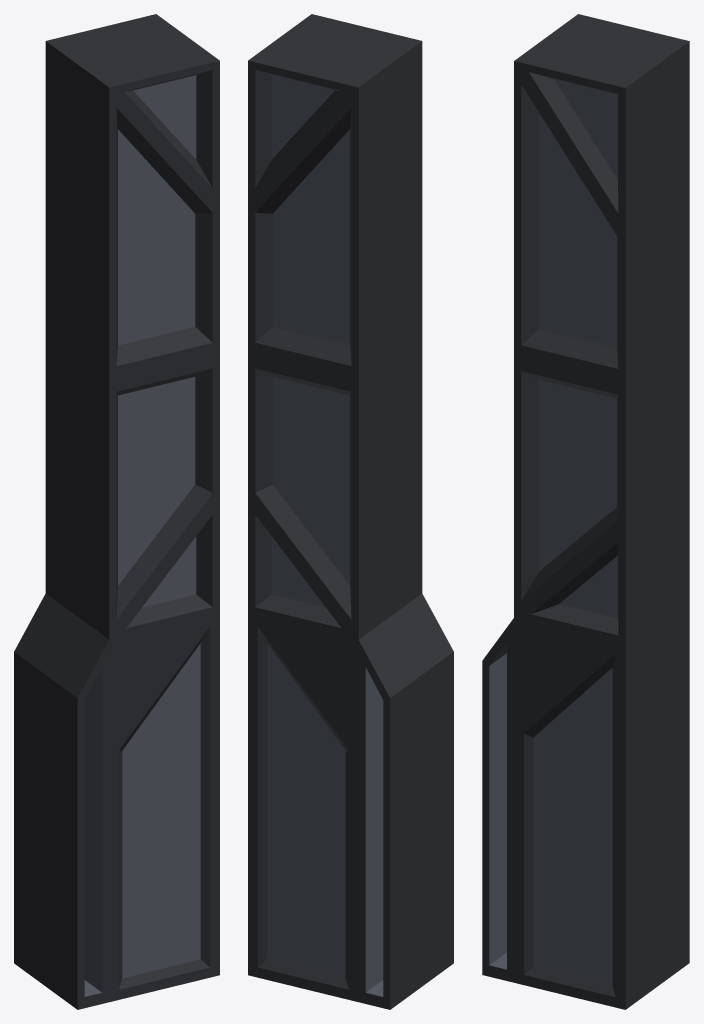
Rendered from SM_Pillar_for_the_conveyor-2m.glb.
3 views of the same model, side by side, from view 1: azimuth 30°, elevation 25°; view 2: azimuth 150°, elevation 25°; view 3: azimuth 330°, elevation 25° (orthographic).
Parts seen in each view (by area): view 1: SM_Pillar_for_the_conveyor-2m; view 2: SM_Pillar_for_the_conveyor-2m; view 3: SM_Pillar_for_the_conveyor-2m.
Boxes of the visible parts, bbox=[...] form: SM_Pillar_for_the_conveyor-2m: bbox=[14, 14, 219, 1009]; SM_Pillar_for_the_conveyor-2m: bbox=[248, 14, 453, 1009]; SM_Pillar_for_the_conveyor-2m: bbox=[482, 14, 689, 1009].
Bounding box in the file's own units: 0.3254 × 2 × 0.2523.
1 material, 1 textured.
